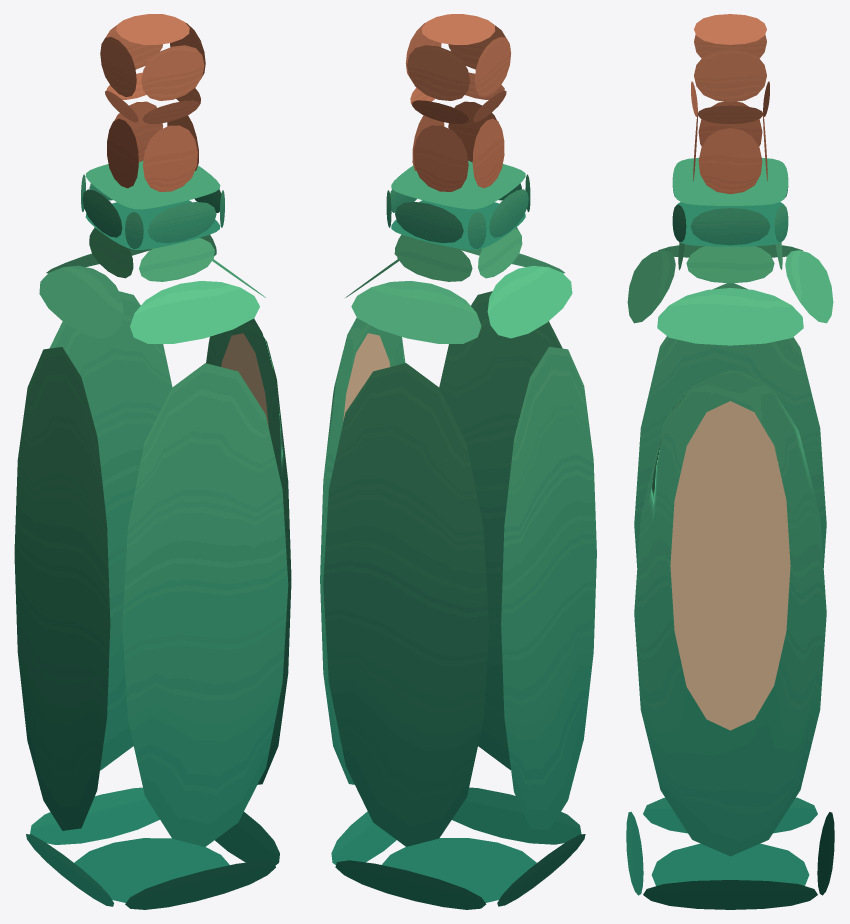
File: bottle-oil.glb
3 renders of one model, left to right at view 1: azimuth 30°, elevation 25°; view 2: azimuth 150°, elevation 25°; view 3: azimuth 270°, elevation 25°, orthographic.
Parts seen in each view (by area): view 1: bottle-oil; view 2: bottle-oil; view 3: bottle-oil.
Boxes of the visible parts, x1,y1,x2,y2 form: bottle-oil: (14,14,291,909); bottle-oil: (320,14,596,909); bottle-oil: (626,14,834,909).
Bounding box in the file's own units: 0.14 × 0.6218 × 0.14.
1 material, 1 textured.
